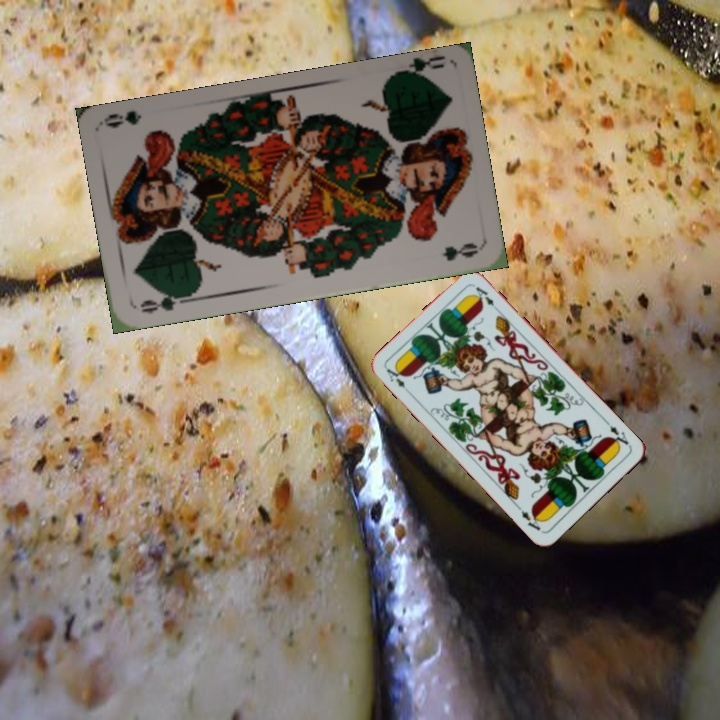EA: (382, 362, 414, 397), (605, 421, 633, 451)
GO: (389, 54, 448, 83), (136, 289, 193, 316)
